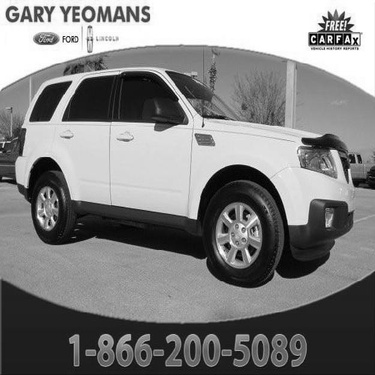car: (1, 58, 359, 282)
